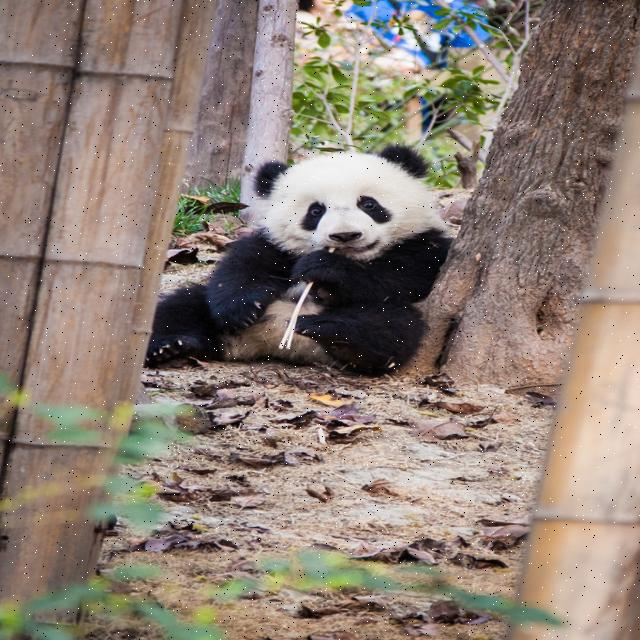panda: (140, 140, 461, 368)
